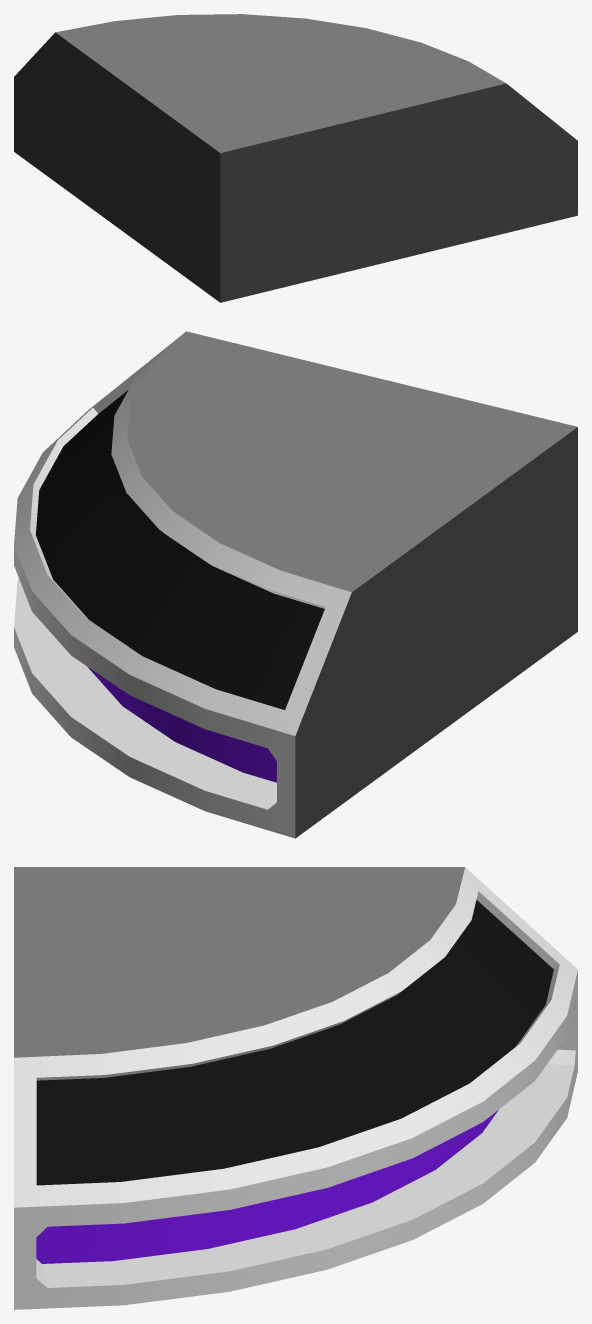
Rendered from PlatformBorder00b_2.5Corner.fbx.
3 renders of one model, top to bottom at view 1: azimuth 30°, elevation 25°; view 2: azimuth 150°, elevation 25°; view 3: azimuth 270°, elevation 25°, orthographic. The views are drawn at different scales.
Visible parts, largest first — view 1: PlatformBorder00b_2.5Corner; view 2: PlatformBorder00b_2.5Corner; view 3: PlatformBorder00b_2.5Corner.
Part boxes in pixels (x1=…): PlatformBorder00b_2.5Corner: x1=14, y1=14, x2=577, y2=302; PlatformBorder00b_2.5Corner: x1=14, y1=331, x2=577, y2=838; PlatformBorder00b_2.5Corner: x1=14, y1=867, x2=577, y2=1309.
Bounding box in the file's own units: 250 × 100 × 250.
